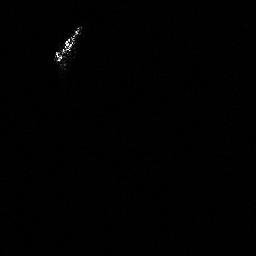ship: (52, 24, 83, 73)
